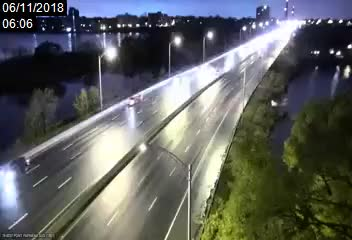personal_car: (1, 157, 31, 180), (126, 94, 144, 107)
